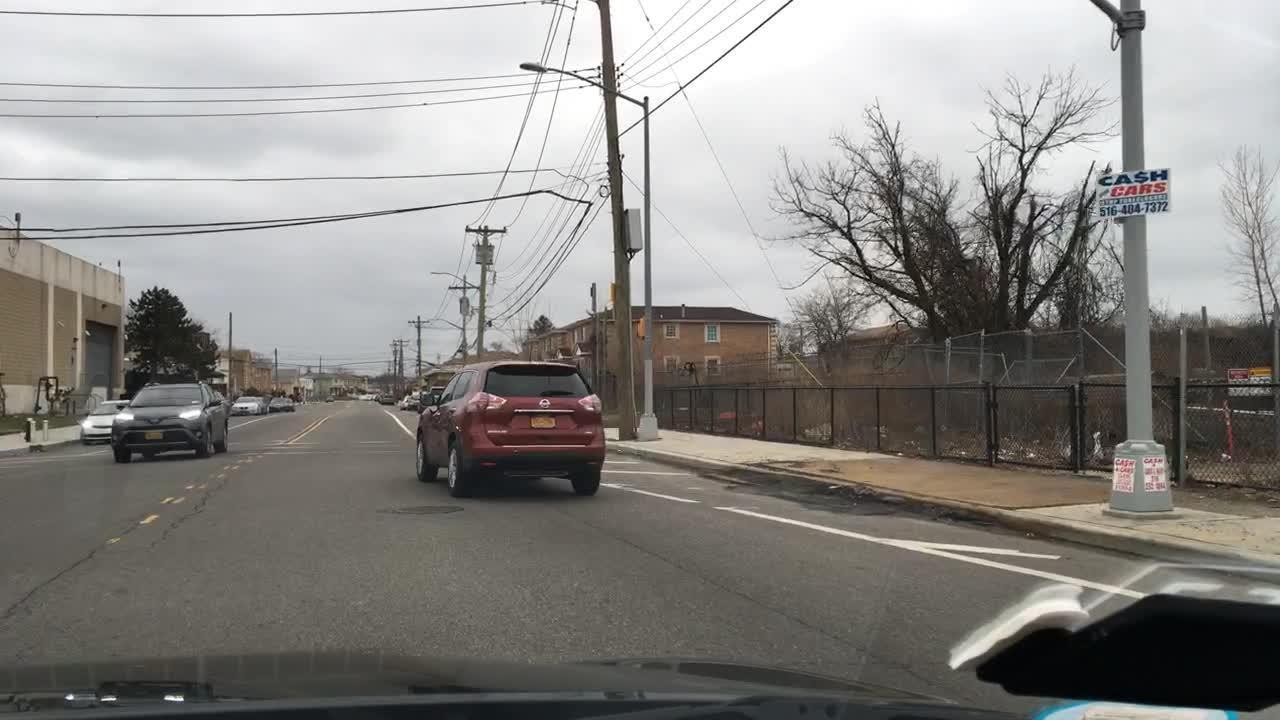Nissan: (538, 398, 552, 410)
